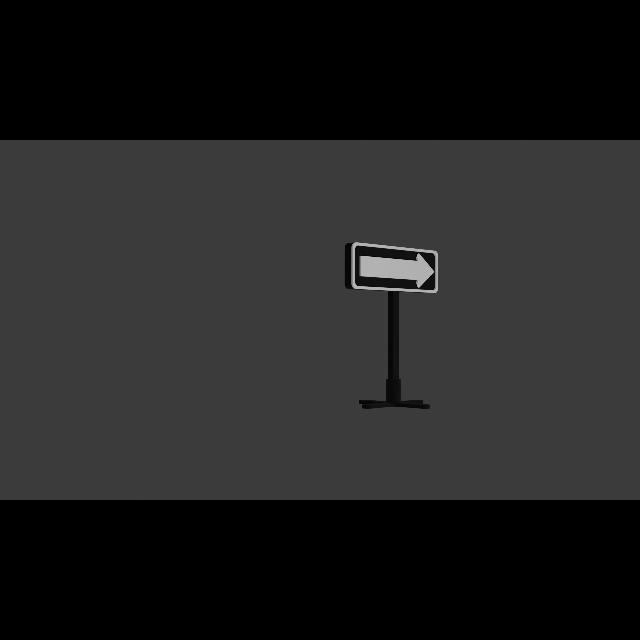sign_oneway_right: (348, 243, 439, 294)
